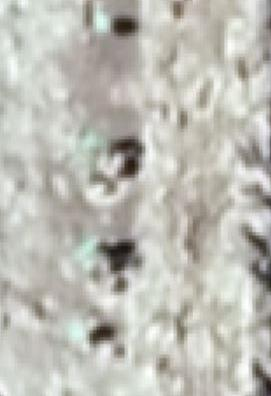cotton: (80, 131, 108, 153), (78, 241, 100, 257), (69, 324, 88, 341), (95, 10, 109, 30)
